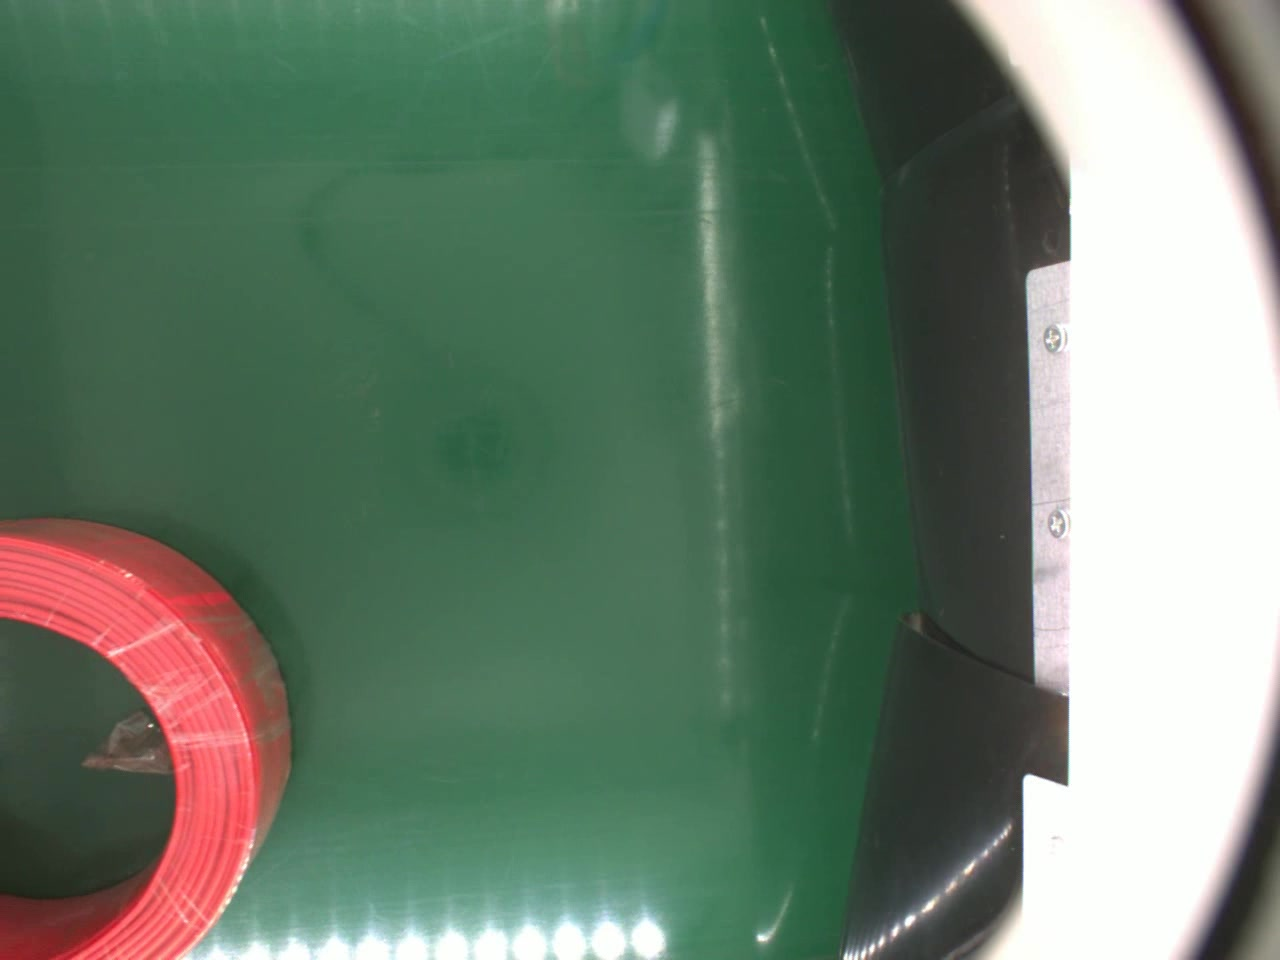red: (0, 513, 295, 960)
